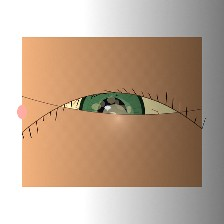corneal_ulcer: (94, 100, 135, 132)
